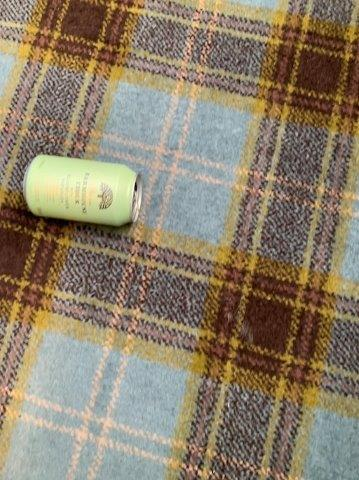kaleng: (24, 156, 141, 226)
